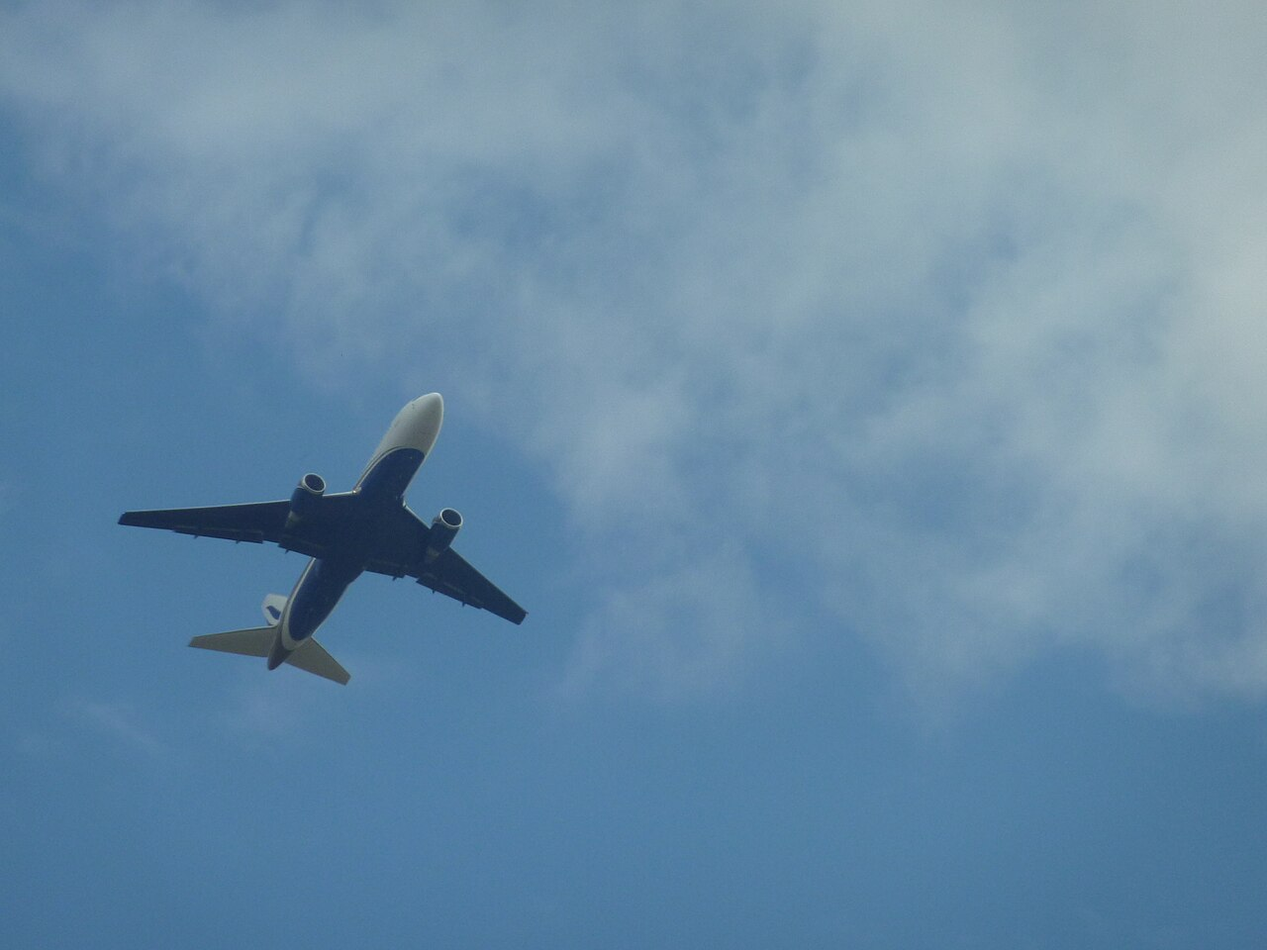aircraft: (115, 391, 526, 687)
